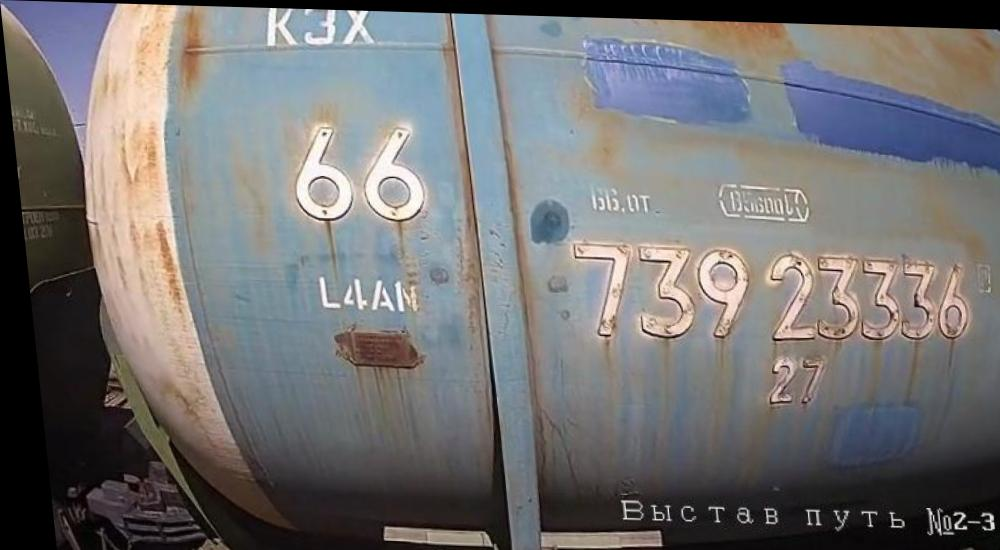Wagon-number: (563, 234, 970, 348)
